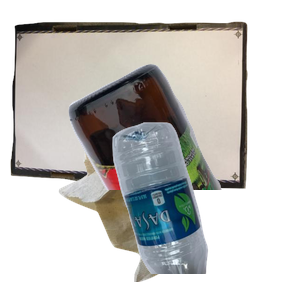cardboard: (10, 19, 250, 199)
glass: (66, 61, 300, 241)
plastic: (110, 120, 300, 300)
trash: (56, 120, 247, 300)
